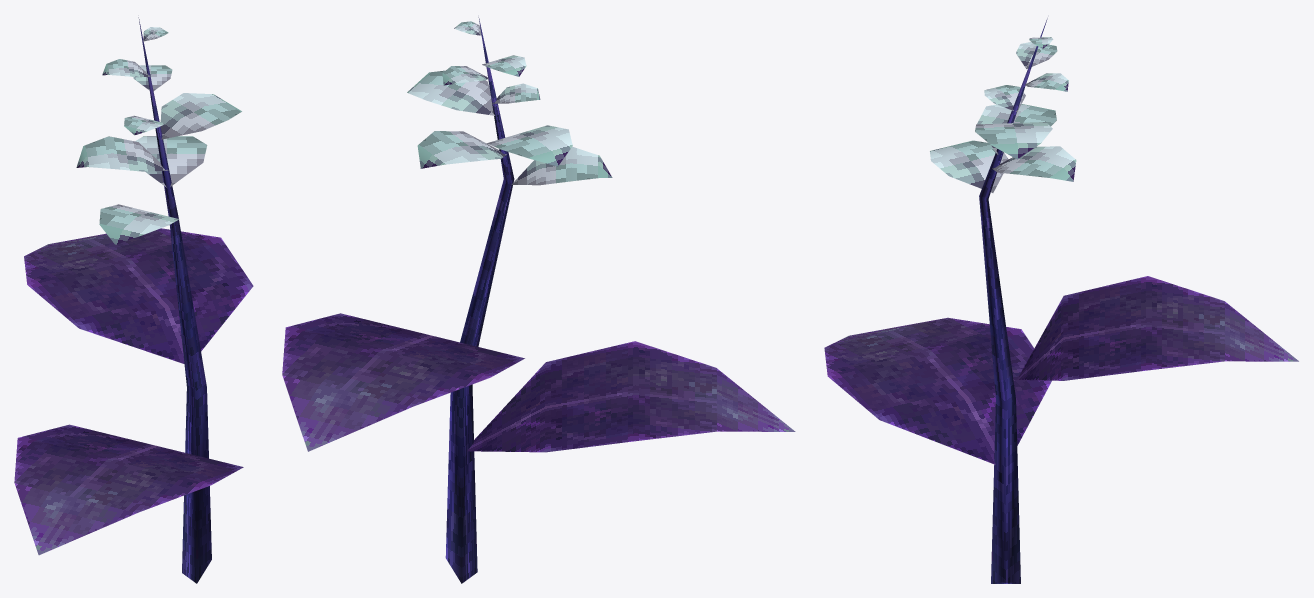
3 views of the same model, side by side, from view 1: azimuth 30°, elevation 25°; view 2: azimuth 150°, elevation 25°; view 3: azimuth 270°, elevation 25° (orthographic). The views are drawn at different scales.
Visible parts, largest first — view 1: fl_el28; view 2: fl_el28; view 3: fl_el28.
Boxes of the visible parts, x1,y1,x2,y2 form: fl_el28: (14, 17, 253, 583); fl_el28: (282, 17, 795, 583); fl_el28: (824, 18, 1298, 583).
Bounding box in the file's own units: 0.1778 × 0.2844 × 0.2205.
1 material, 1 textured.
